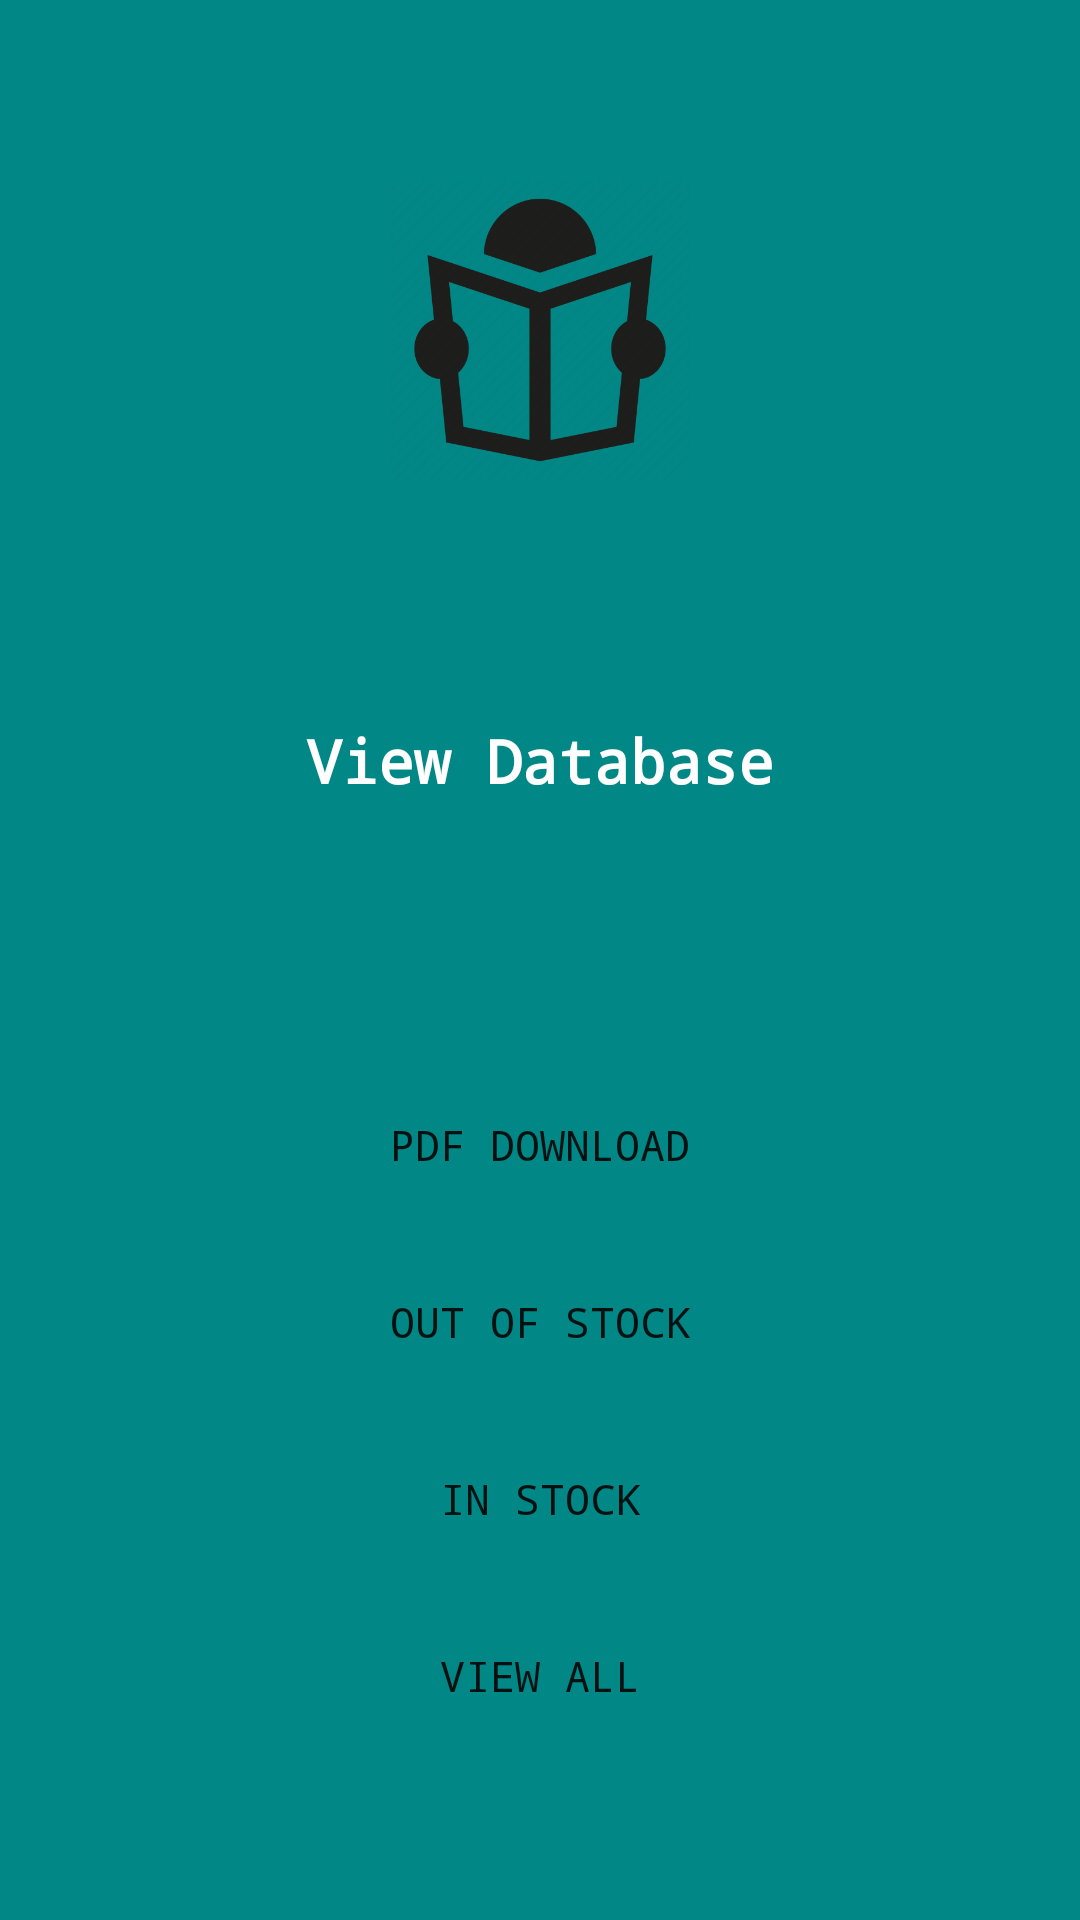

Icon bounding boxes for this 1080px x 1920px phone screenshot, format Rect(x1, y1, x2, y2):
read: Rect(414, 199, 666, 461)
